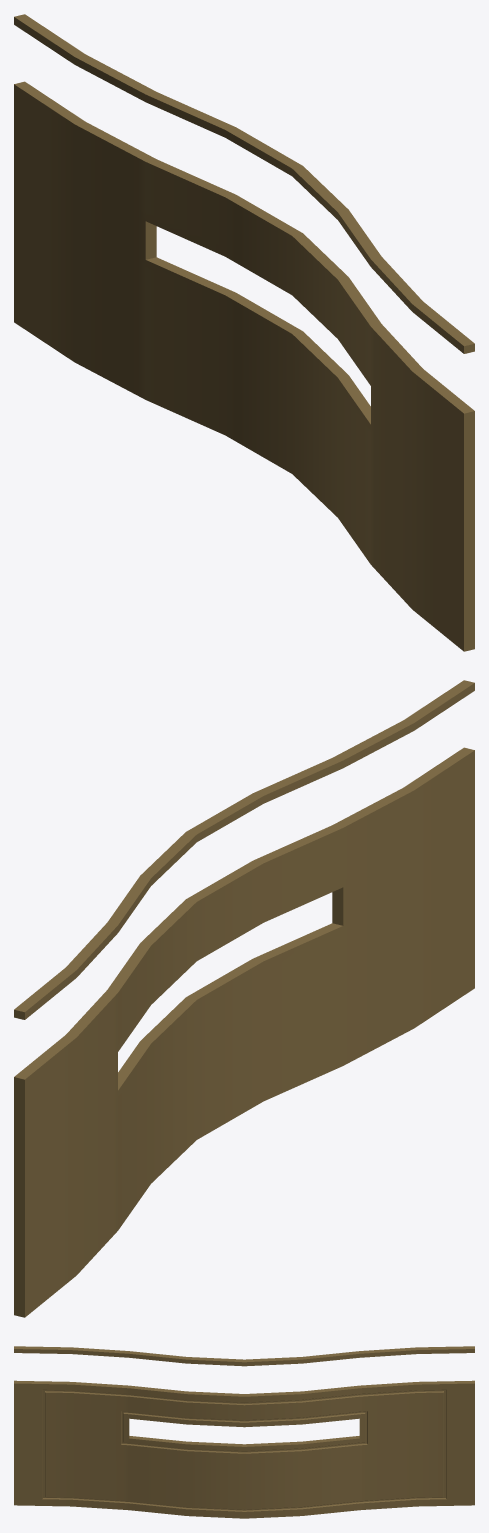
The model's file is misk_fireShield_hi.fbx.
The picture shows the model from 3 angles, top to bottom: view 1: azimuth 30°, elevation 25°; view 2: azimuth 150°, elevation 25°; view 3: azimuth 270°, elevation 25°; orthographic projection. The views are drawn at different scales.
Visible parts, largest first — view 1: fireplaceShield_mesh; view 2: fireplaceShield_mesh; view 3: fireplaceShield_mesh.
Boxes of the visible parts, x1,y1,x2,y2 form: fireplaceShield_mesh: (14, 14, 474, 651); fireplaceShield_mesh: (14, 680, 474, 1317); fireplaceShield_mesh: (14, 1346, 474, 1518).
Size of the model in its own units: 0.1003 by 0.4572 by 1.22.
